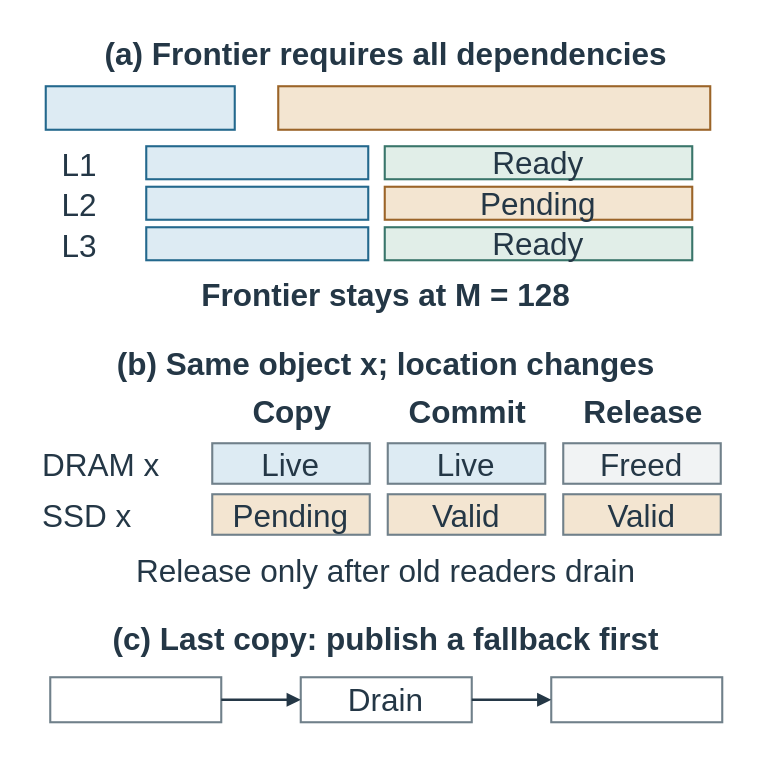
The diagram is 771 pixels wide and 759 high, and some of its shapes have lost their labels. Each missing label, with the centre of its shape:
129–192 pending: [493,107]
Delete x: [636,699]
Fallback: [135,699]
M = 128: [139,107]
